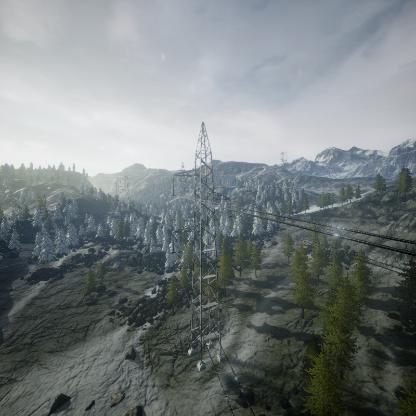tower: (168, 121, 234, 374)
